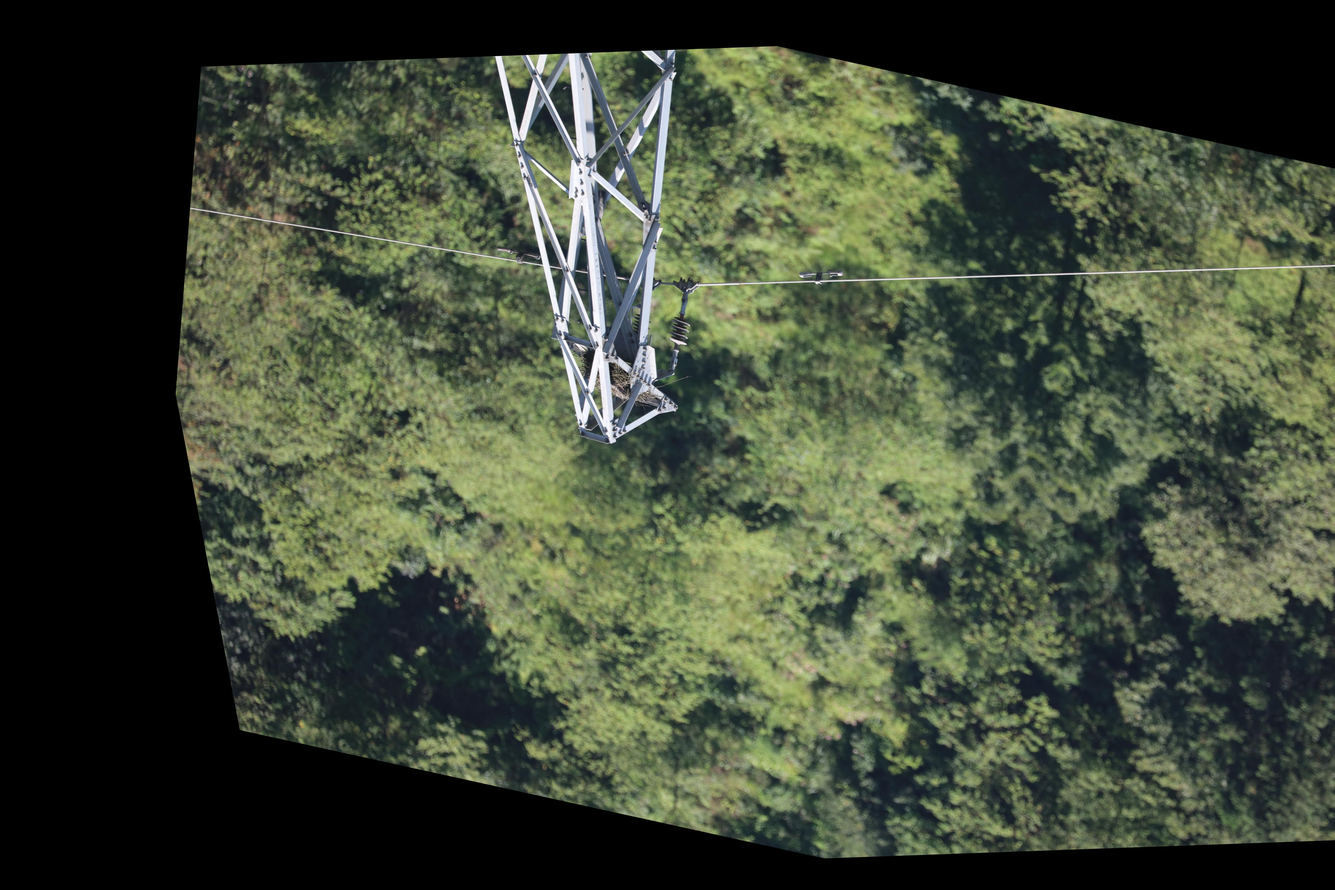damper: (792, 258, 850, 294), (490, 240, 546, 272)
